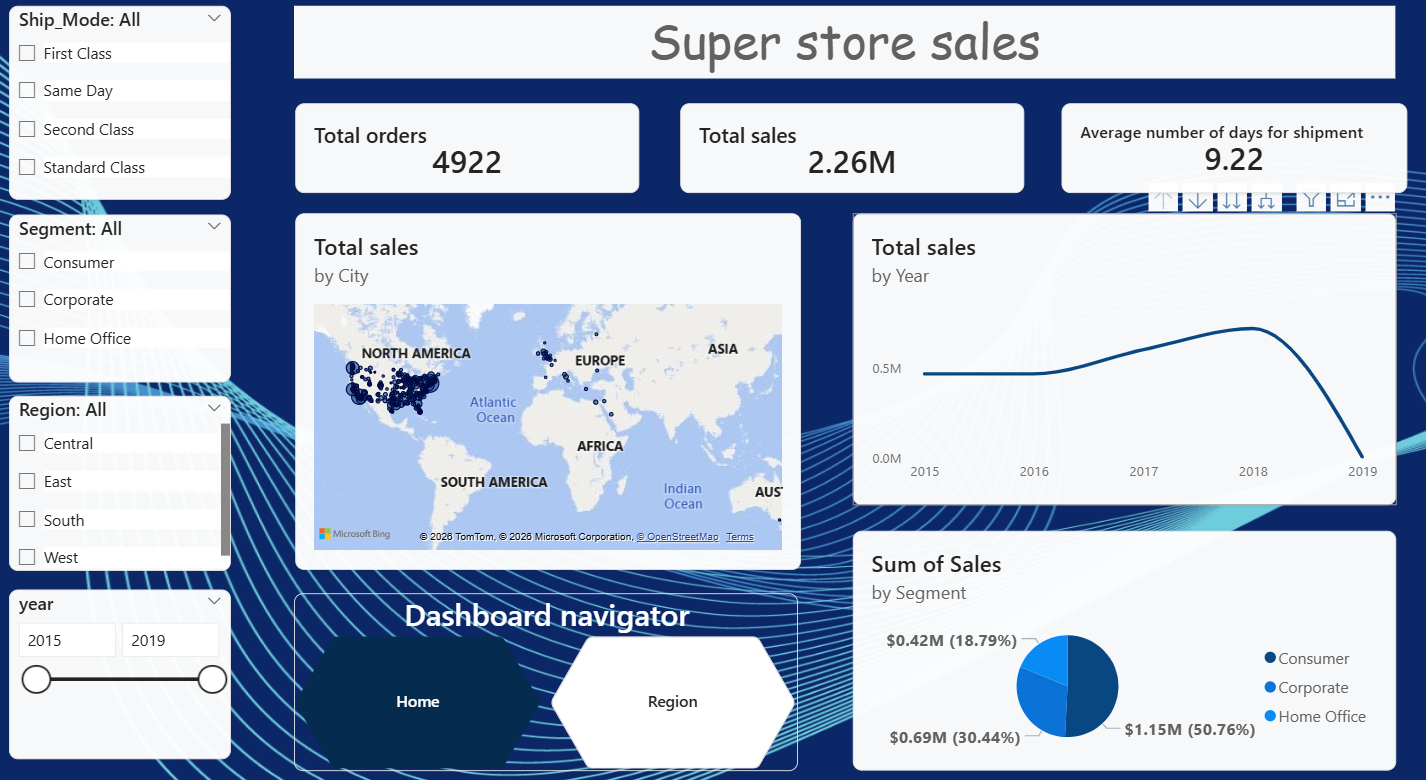

Layout of this report page (visuals, bound fields, positions):
{"tool":"powerbi","page":{"name":"Home","canvas":[1280,720],"ordinal":0},"visuals":[{"type":"card","title":"Total sales","fields":{"Values":["superstore_final_dataset (1).Total sales"]},"box":[606.7,98.7,306.7,80],"z":1000},{"type":"slicer","fields":{"Values":["superstore_final_dataset (1).Ship_Mode"]},"box":[8.4,12.1,197.9,172.5],"z":2000},{"type":"slicer","fields":{"Values":["superstore_final_dataset (1).Segment"]},"box":[8.4,197.9,197.9,149.6],"z":3000},{"type":"slicer","fields":{"Values":["superstore_final_dataset (1).Region"]},"box":[8.4,359.5,197.9,155.6],"z":4000},{"type":"map","fields":{"Category":["superstore_final_dataset (1).City"],"Size":["superstore_final_dataset (1).Total sales"]},"box":[264,197.3,450.7,317.3],"z":5000},{"type":"card","title":"Total orders","fields":{"Values":["superstore_final_dataset (1).Total orders"]},"box":[264,98.7,306.7,80],"z":6000},{"type":"lineChart","fields":{"Y":["superstore_final_dataset (1).Total sales"],"Category":["superstore_final_dataset (1).Ship_Date.Variation.Date Hierarchy.Year","superstore_final_dataset (1).Ship_Date.Variation.Date Hierarchy.Quarter","superstore_final_dataset (1).Ship_Date.Variation.Date Hierarchy.Month","superstore_final_dataset (1).Ship_Date.Variation.Date Hierarchy.Day"]},"box":[760,197.3,484,260],"z":7000},{"type":"slicer","fields":{"Values":["superstore_final_dataset (1).year"]},"box":[8.4,532,197.9,150.8],"z":8000},{"type":"card","title":"Average number of days for shipment","fields":{"Values":["Avg(superstore_final_dataset (1).days of shipment)"]},"box":[946.7,98.7,308,80],"z":9000},{"type":"textbox","box":[263,12.1,980.8,65.1],"z":10000},{"type":"pieChart","fields":{"Y":["Sum(superstore_final_dataset (1).Sales)"],"Category":["superstore_final_dataset (1).Segment"]},"box":[760,480,484,213.3],"z":11000},{"type":"pageNavigator","title":"Dashboard navigator","box":[263,535.7,448.8,158],"z":11500}]}

Visuals, with their boxes in screenshot pixels (x1, y1, x2, y2), scaled from the page's 1280x720 canvas onto the 1426x780 screenshot:
"Total sales" card: (676, 107, 1018, 194)
slicer - superstore_final_dataset (1).Ship_Mode: (9, 13, 230, 200)
slicer - superstore_final_dataset (1).Segment: (9, 214, 230, 376)
slicer - superstore_final_dataset (1).Region: (9, 389, 230, 558)
map - superstore_final_dataset (1).City x superstore_final_dataset (1).Total sales: (294, 214, 796, 557)
"Total orders" card: (294, 107, 636, 194)
lineChart - superstore_final_dataset (1).Total sales x superstore_final_dataset (1).Ship_Date.Variation.Date Hierarchy.Year: (847, 214, 1386, 495)
slicer - superstore_final_dataset (1).year: (9, 576, 230, 740)
"Average number of days for shipment" card: (1055, 107, 1398, 194)
textbox: (293, 13, 1386, 84)
pieChart - Sum(superstore_final_dataset (1).Sales) x superstore_final_dataset (1).Segment: (847, 520, 1386, 751)
"Dashboard navigator" pageNavigator: (293, 580, 793, 752)
